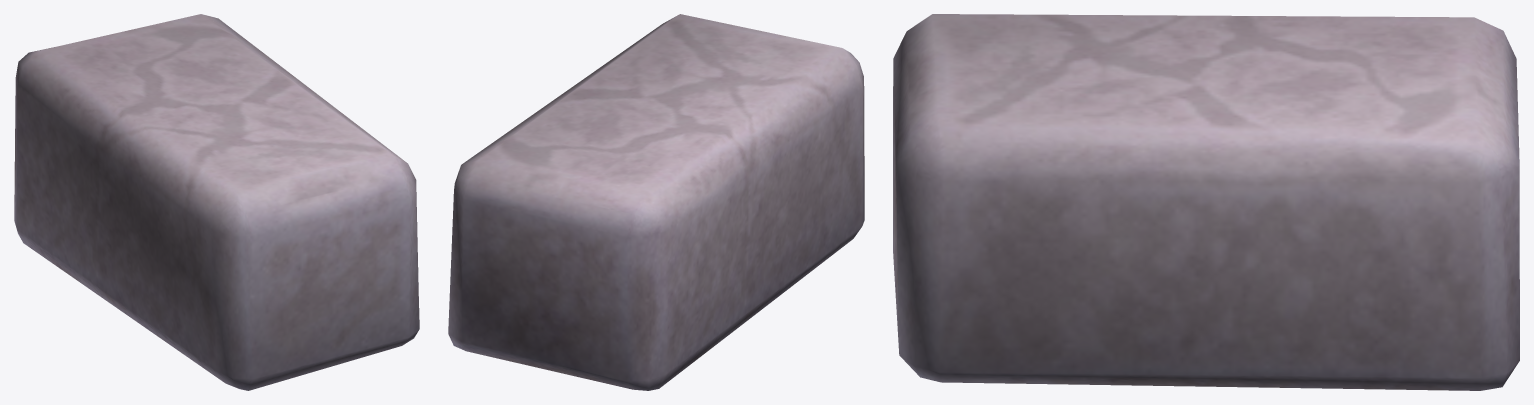
File: SM_Brick1.glb
3 views of the same model, side by side, from view 1: azimuth 30°, elevation 25°; view 2: azimuth 150°, elevation 25°; view 3: azimuth 270°, elevation 25° (orthographic). The views are drawn at different scales.
Parts seen in each view (by area): view 1: SM_Brick1; view 2: SM_Brick1; view 3: SM_Brick1.
Boxes of the visible parts, x1,y1,x2,y2 form: SM_Brick1: (14, 14, 419, 390); SM_Brick1: (448, 14, 864, 390); SM_Brick1: (893, 14, 1519, 390).
Bounding box in the file's own units: 0.2786 × 0.2464 × 0.5226.
Materials: 1 (1 with a texture image).
